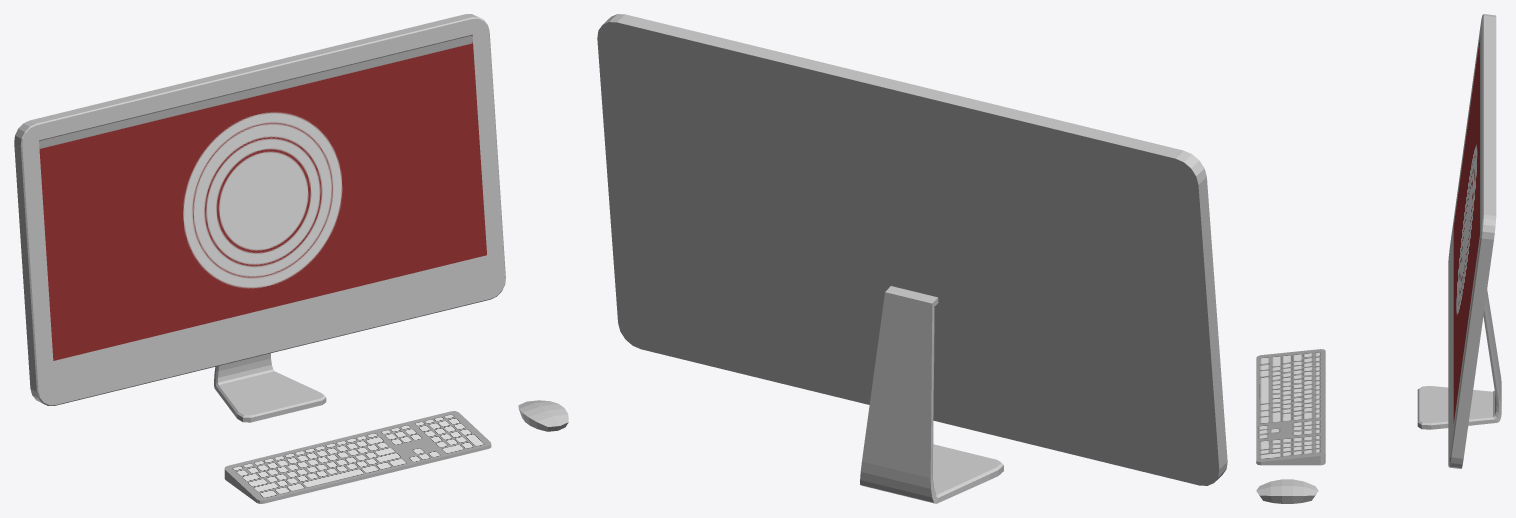
The model's file is Desktop PC.fbx.
The picture shows the model from 3 angles, left to right: view 1: azimuth 30°, elevation 25°; view 2: azimuth 150°, elevation 25°; view 3: azimuth 270°, elevation 25°; orthographic projection. The views are drawn at different scales.
Visible parts, largest first — view 1: PC Screen, PC Case, PC Keyboard, PC Mouse; view 2: PC Case; view 3: PC Case, PC Keyboard, PC Screen, PC Mouse.
Part boxes in pixels (<box>): PC Screen: <box>39,34,486,360</box>; PC Case: <box>14,14,505,503</box>; PC Keyboard: <box>224,411,490,500</box>; PC Mouse: <box>518,400,568,431</box>; PC Case: <box>597,14,1227,503</box>; PC Case: <box>1256,14,1501,468</box>; PC Keyboard: <box>1256,349,1325,461</box>; PC Screen: <box>1453,33,1480,423</box>; PC Mouse: <box>1256,479,1318,503</box>.
Bounding box in the file's own units: 84.01 × 54.37 × 40.72.
